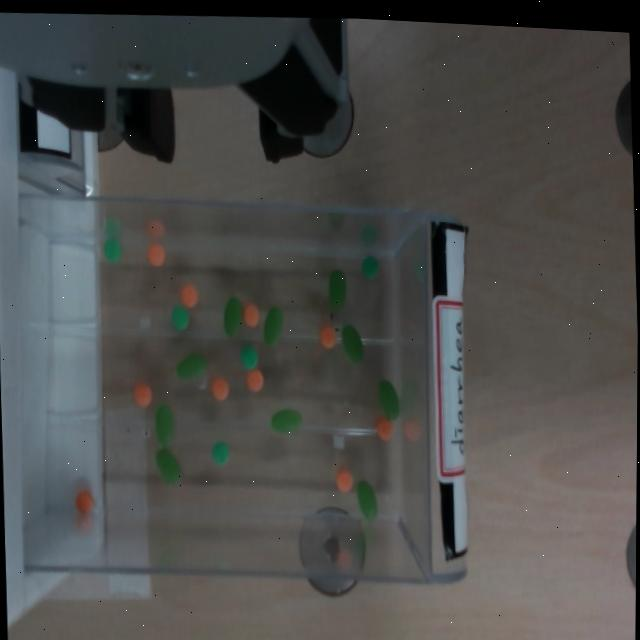famodine: (211, 439, 229, 465), (102, 236, 120, 262), (170, 305, 188, 329), (360, 255, 378, 278), (102, 238, 119, 261), (240, 346, 257, 368), (211, 442, 228, 464), (240, 345, 256, 368), (170, 307, 187, 328), (362, 256, 377, 278)
otillen_tab: (154, 446, 180, 485), (354, 479, 378, 520), (340, 323, 363, 363), (262, 305, 283, 347), (155, 448, 180, 483), (221, 294, 241, 337), (376, 380, 398, 419), (174, 353, 206, 379), (378, 380, 398, 421), (326, 269, 346, 310), (355, 481, 376, 520), (341, 324, 362, 363), (269, 408, 301, 433), (153, 404, 172, 446), (154, 404, 172, 445), (176, 353, 205, 378), (263, 306, 282, 344), (223, 296, 241, 335), (328, 269, 345, 310), (271, 409, 300, 432)
samsung_octylonium_tab: (177, 281, 196, 307), (75, 488, 93, 515), (179, 282, 197, 308), (146, 241, 164, 266), (210, 376, 229, 399), (74, 490, 93, 513), (242, 302, 259, 327), (133, 383, 152, 405), (210, 377, 228, 400), (335, 467, 352, 491), (133, 382, 150, 406), (335, 468, 352, 492), (375, 415, 392, 439), (245, 368, 262, 392), (244, 368, 262, 390), (146, 243, 164, 265), (318, 322, 334, 346), (242, 303, 260, 324), (320, 323, 335, 348), (376, 420, 392, 439)
